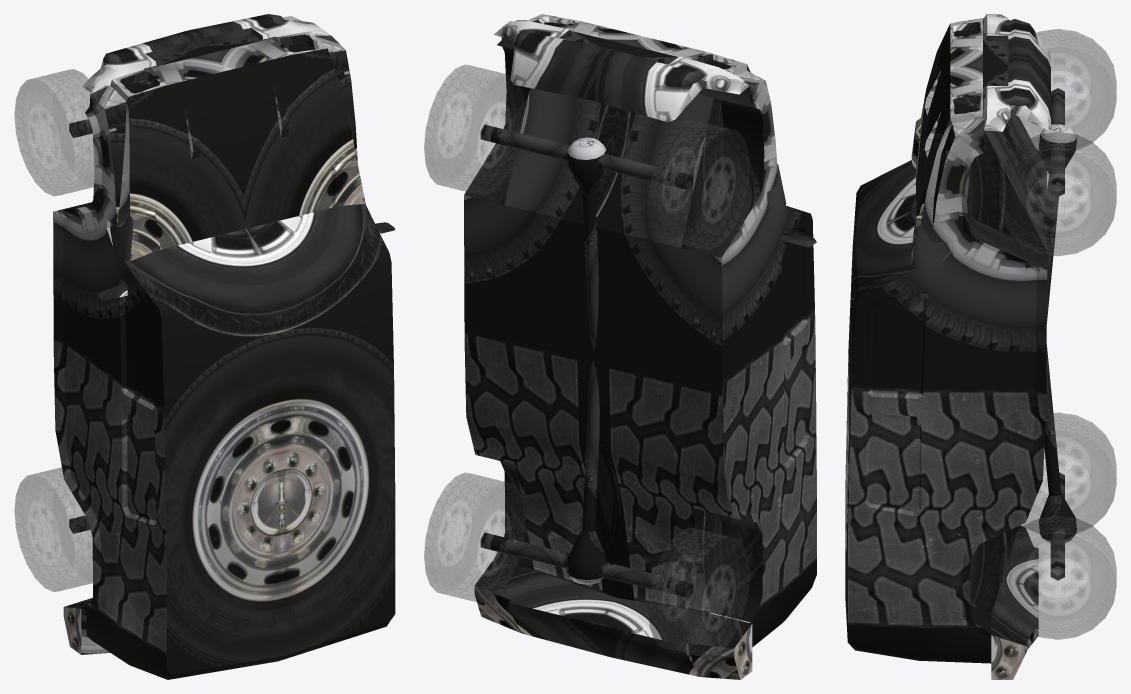
Rendered from suv.glb.
3 views of the same model, side by side, from view 1: azimuth 30°, elevation 25°; view 2: azimuth 150°, elevation 25°; view 3: azimuth 270°, elevation 25° (orthographic). The views are drawn at different scales.
Parts seen in each view (by area): view 1: suv; view 2: suv; view 3: suv.
Part boxes in pixels (x1,y1,x2,y2): suv: [14, 14, 395, 679]; suv: [424, 14, 816, 679]; suv: [845, 14, 1116, 679].
Bounding box in the file's own units: 43.4 × 83.67 × 35.94.
2 materials, 2 textured.
